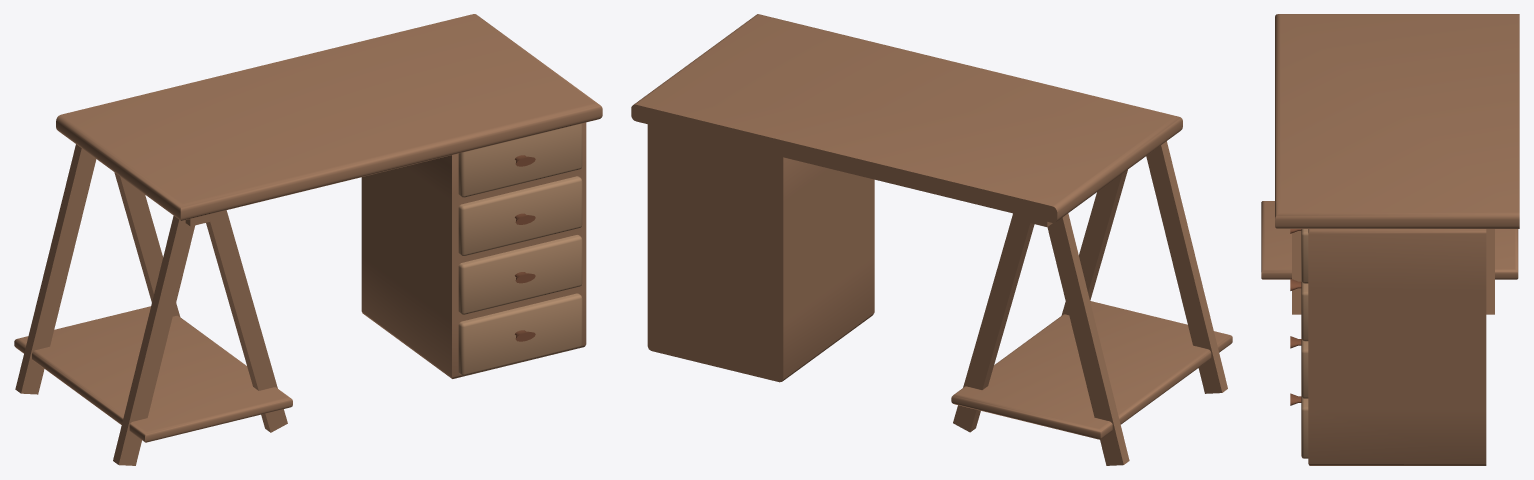
File: Computer-Desk.fbx
3 views of the same model, side by side, from view 1: azimuth 30°, elevation 25°; view 2: azimuth 150°, elevation 25°; view 3: azimuth 270°, elevation 25° (orthographic). The views are drawn at different scales.
Visible parts, largest first — view 1: Computer-Desk; view 2: Computer-Desk; view 3: Computer-Desk.
Part boxes in pixels (left/top/right/bottom): Computer-Desk: left=14, top=14, right=602, bottom=465; Computer-Desk: left=631, top=14, right=1232, bottom=465; Computer-Desk: left=1261, top=14, right=1519, bottom=465.
Size of the model in its own units: 1.55 by 0.8013 by 0.7432.
